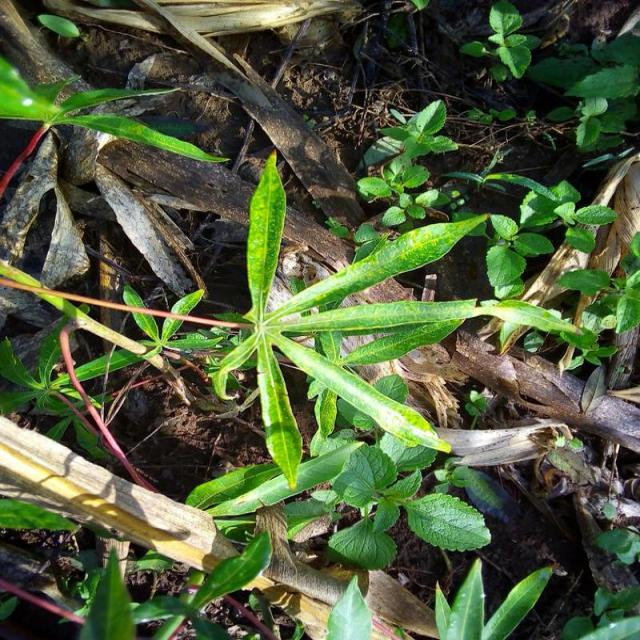cassava leaf: (246, 147, 288, 316)
